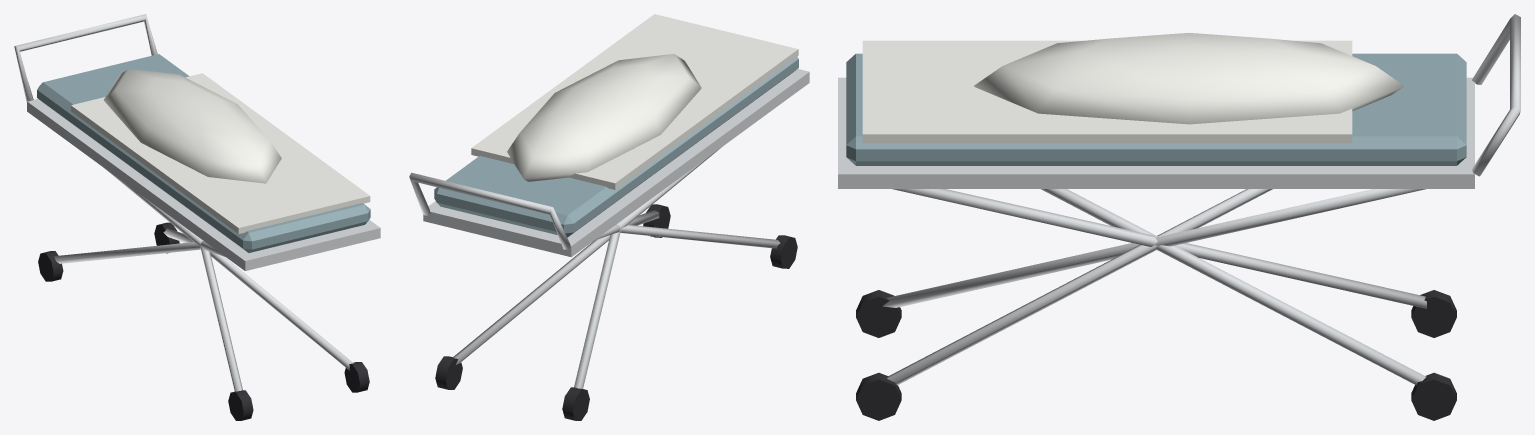
Rendered from hs_gurney.glb.
The picture shows the model from 3 angles, left to right: view 1: azimuth 30°, elevation 25°; view 2: azimuth 150°, elevation 25°; view 3: azimuth 270°, elevation 25°; orthographic projection. The views are drawn at different scales.
Visible parts, largest first — view 1: hs_gurney; view 2: hs_gurney; view 3: hs_gurney.
Part boxes in pixels (<box>): hs_gurney: <box>14,14,380,420</box>; hs_gurney: <box>409,14,809,420</box>; hs_gurney: <box>838,14,1520,420</box>.
Size of the model in its own units: 0.7 by 1.12 by 2.09.
